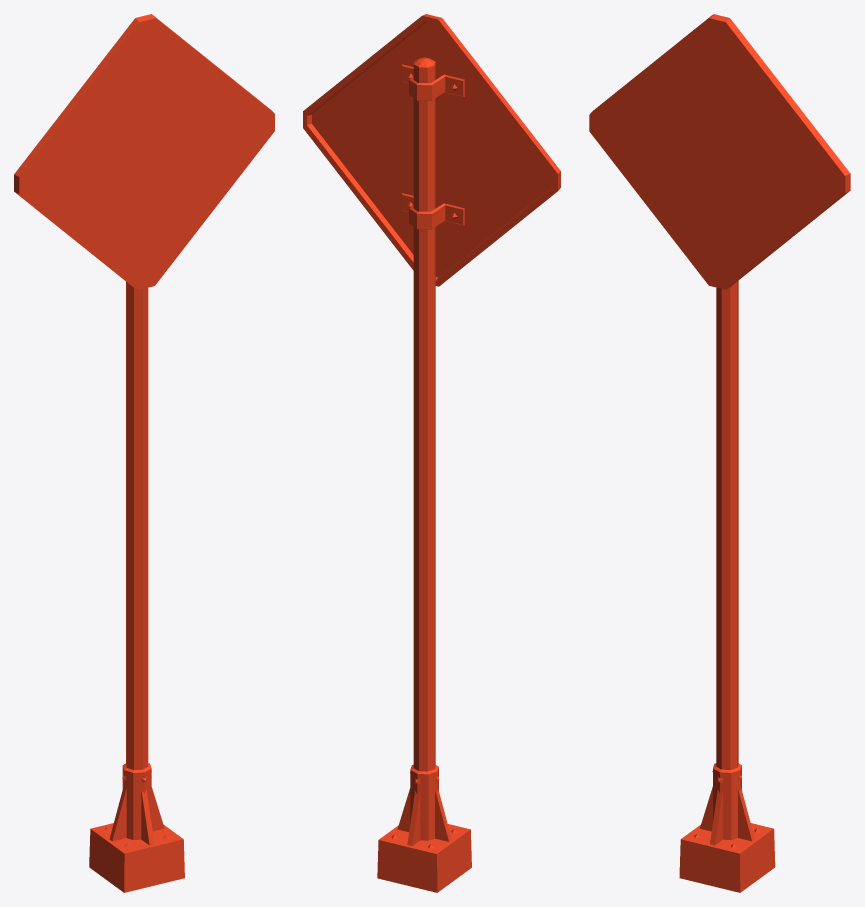
The model's file is SM_Sign_Warning_B_City.fbx.
3 views of the same model, side by side, from view 1: azimuth 30°, elevation 25°; view 2: azimuth 150°, elevation 25°; view 3: azimuth 330°, elevation 25° (orthographic).
Parts seen in each view (by area): view 1: SM_Sign_Warning_B_City; view 2: SM_Sign_Warning_B_City; view 3: SM_Sign_Warning_B_City.
Part boxes in pixels (<box>): SM_Sign_Warning_B_City: <box>14,14,274,892</box>; SM_Sign_Warning_B_City: <box>303,14,560,892</box>; SM_Sign_Warning_B_City: <box>589,14,850,892</box>.
Size of the model in its own units: 0.7813 by 2.49 by 0.1839.
